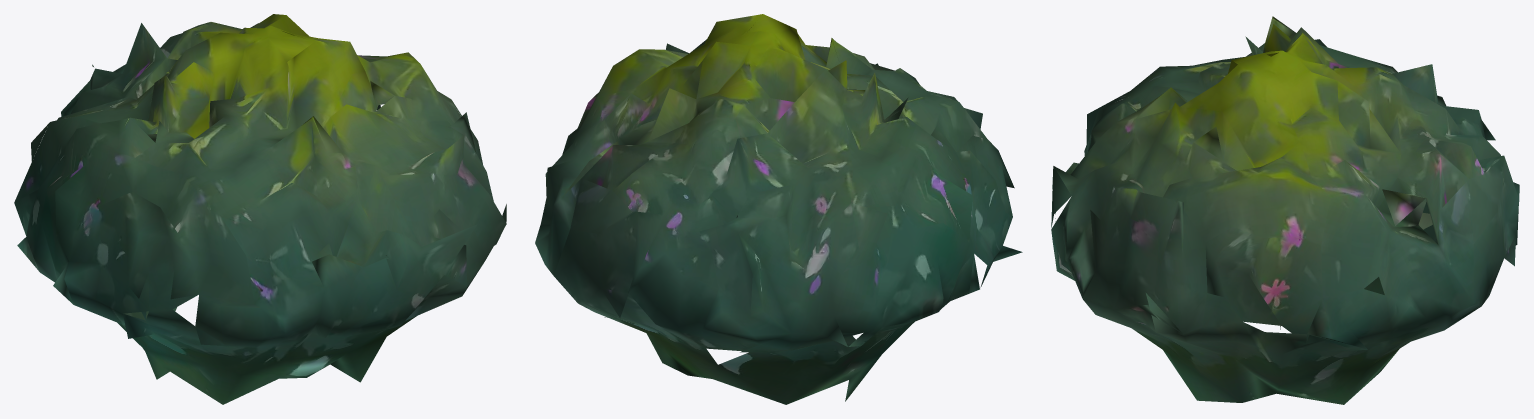
The model's file is bush.glb.
3 views of the same model, side by side, from view 1: azimuth 30°, elevation 25°; view 2: azimuth 150°, elevation 25°; view 3: azimuth 270°, elevation 25° (orthographic). The views are drawn at different scales.
Visible parts, largest first — view 1: tripo_node_99ccf427-5997-4168-9890-643ee86649d3; view 2: tripo_node_99ccf427-5997-4168-9890-643ee86649d3; view 3: tripo_node_99ccf427-5997-4168-9890-643ee86649d3.
Boxes of the visible parts, bbox=[...] form: tripo_node_99ccf427-5997-4168-9890-643ee86649d3: bbox=[14, 14, 506, 404]; tripo_node_99ccf427-5997-4168-9890-643ee86649d3: bbox=[535, 14, 1022, 404]; tripo_node_99ccf427-5997-4168-9890-643ee86649d3: bbox=[1051, 16, 1519, 404].
Size of the model in its own units: 0.8119 by 0.6394 by 0.8158.
1 material, 1 textured.
